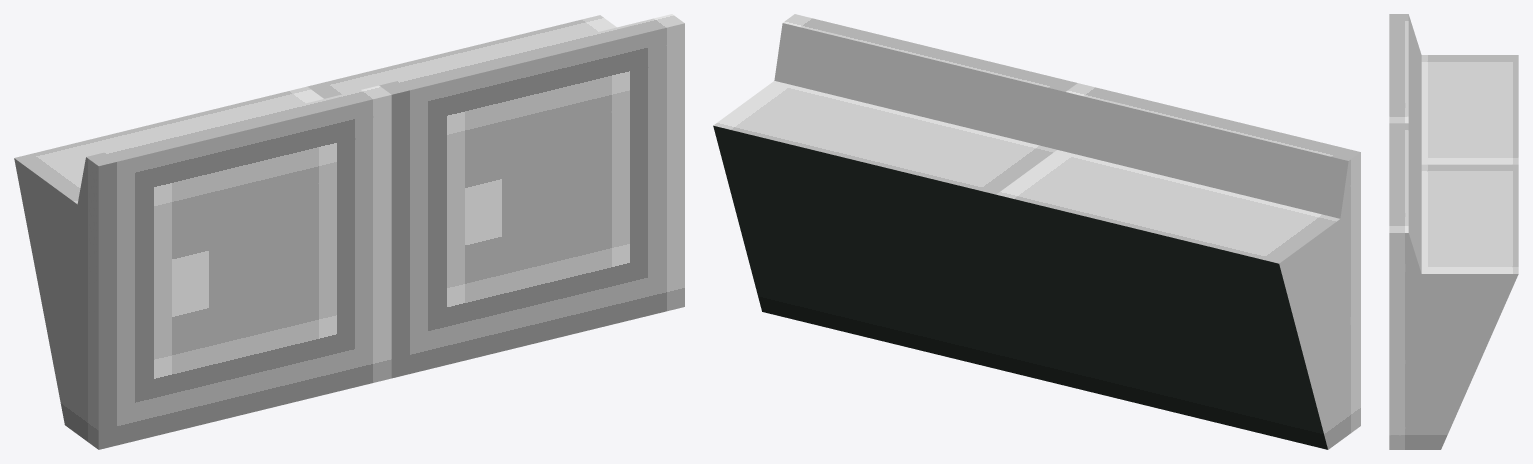
The model's file is desk_wide_item.obj.
3 renders of one model, left to right at view 1: azimuth 30°, elevation 25°; view 2: azimuth 150°, elevation 25°; view 3: azimuth 270°, elevation 25°, orthographic. The views are drawn at different scales.
Size of the model in its own units: 2 by 0.925 by 0.5.
